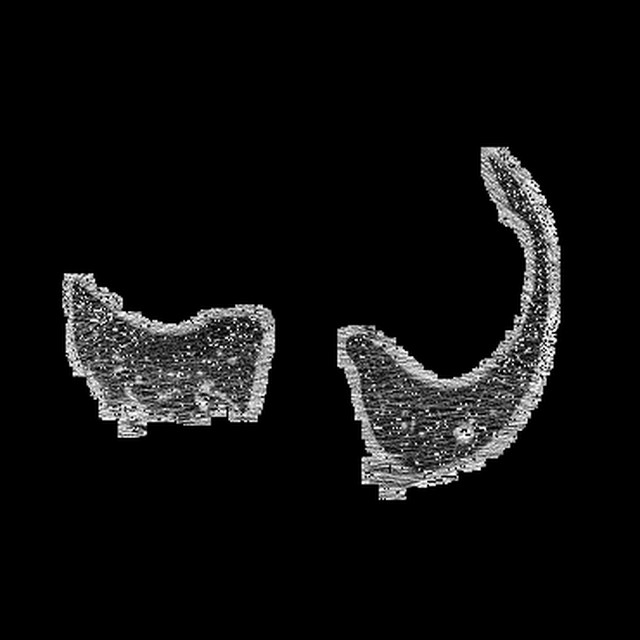PN: (453, 422, 474, 443)
